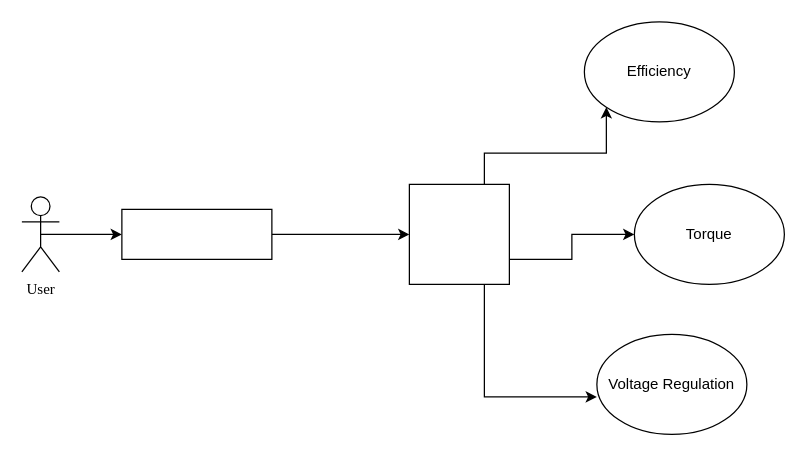
Some shapes in this 806 by 456 pixel diagram are drawn without their labels. The shapes that lost their labels are listed below. From the top down, each one's centre as x and y in pixels, then its label:
point 196,233: Inputs
point 458,233: Program
